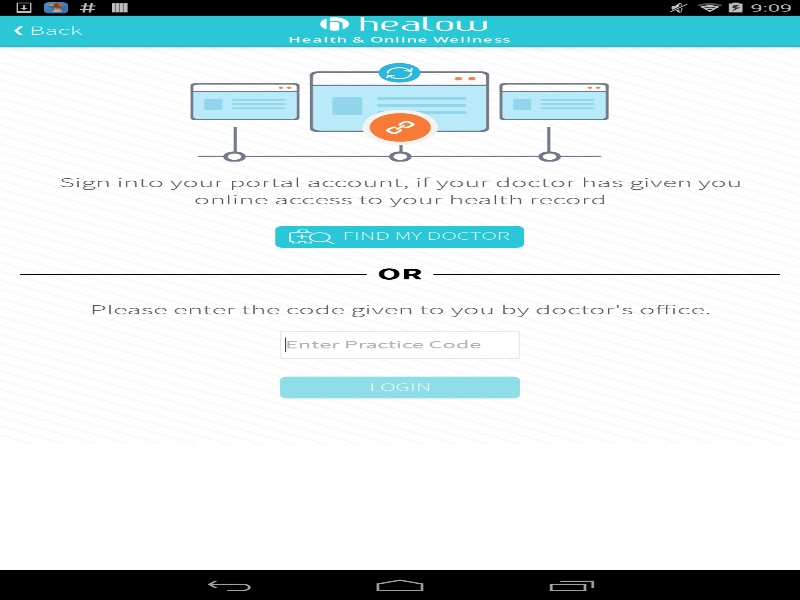Input: (280, 330, 520, 359)
